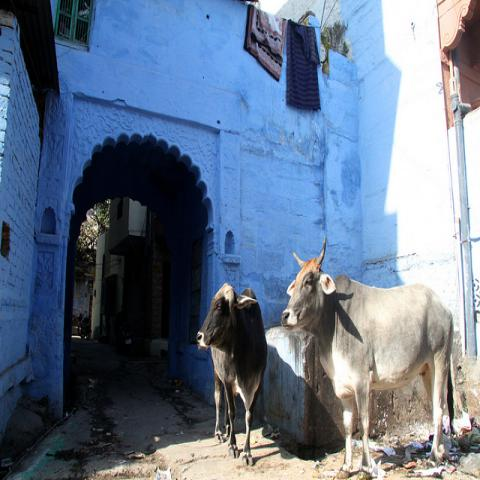motorcycle: (78, 312, 91, 340)
